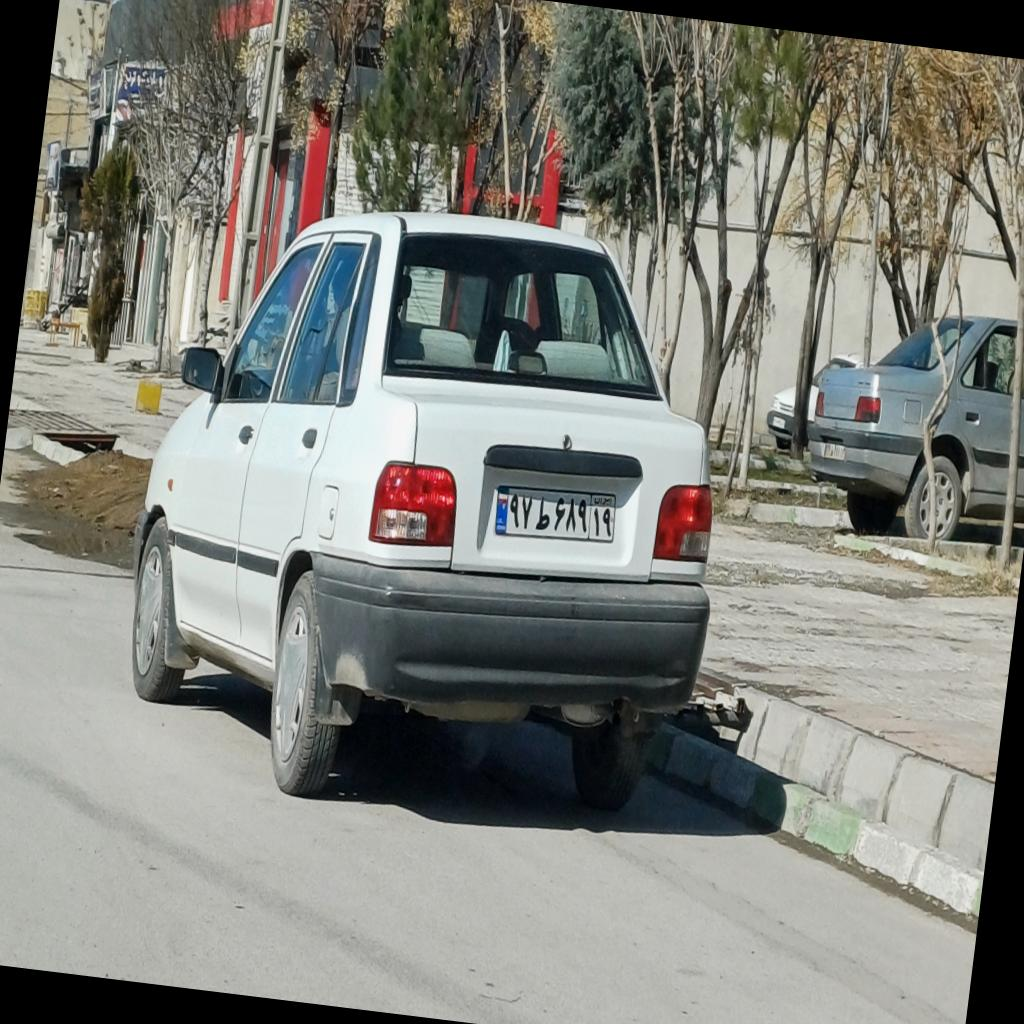Plates: (492, 478, 618, 544)
